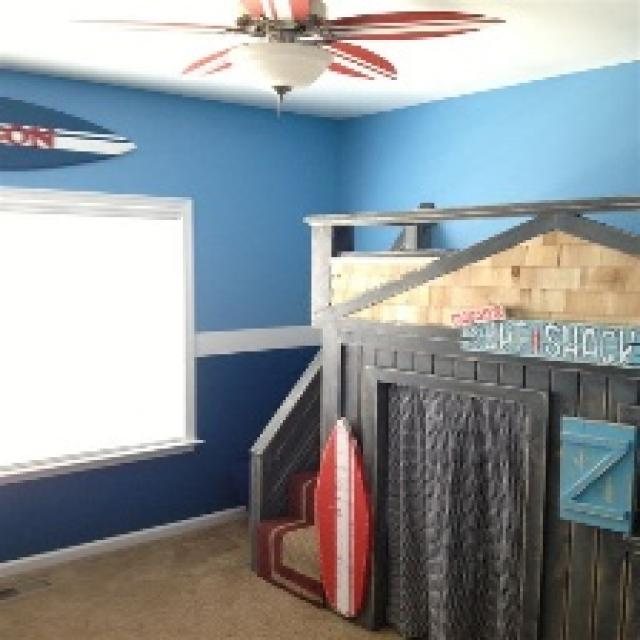Bed: (246, 192, 637, 637)
